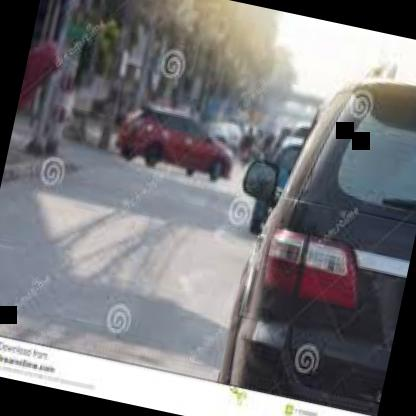car: (117, 101, 241, 193)
